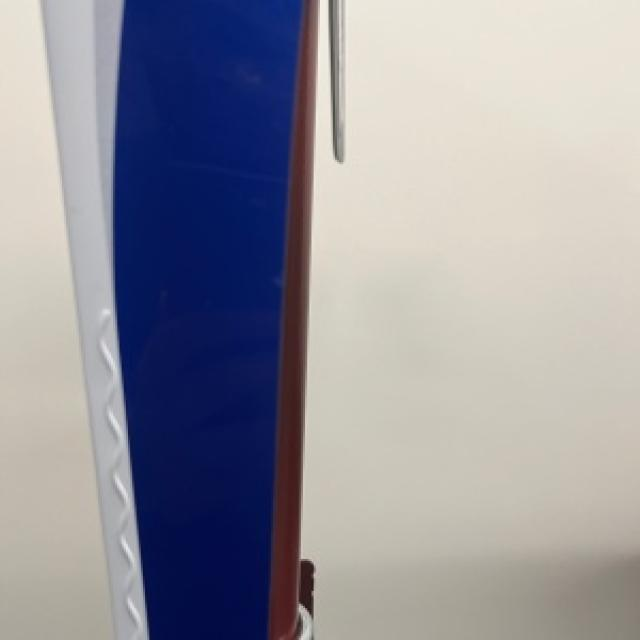healthy: (43, 0, 314, 638)
